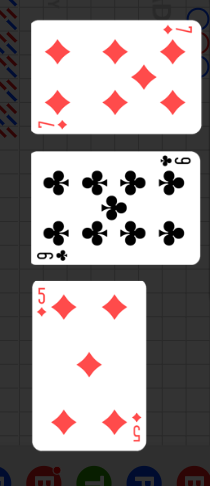7D: (161, 23, 194, 35)
9C: (35, 248, 70, 262)
9D: (131, 411, 143, 443)
